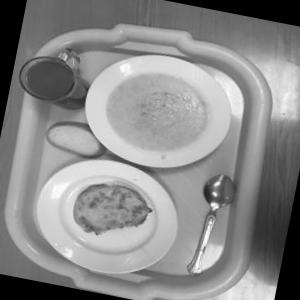bread: (42, 118, 112, 169)
cheese_sandwich: (64, 168, 154, 253)
coffee: (13, 36, 92, 120)
porridge: (74, 49, 224, 167)
